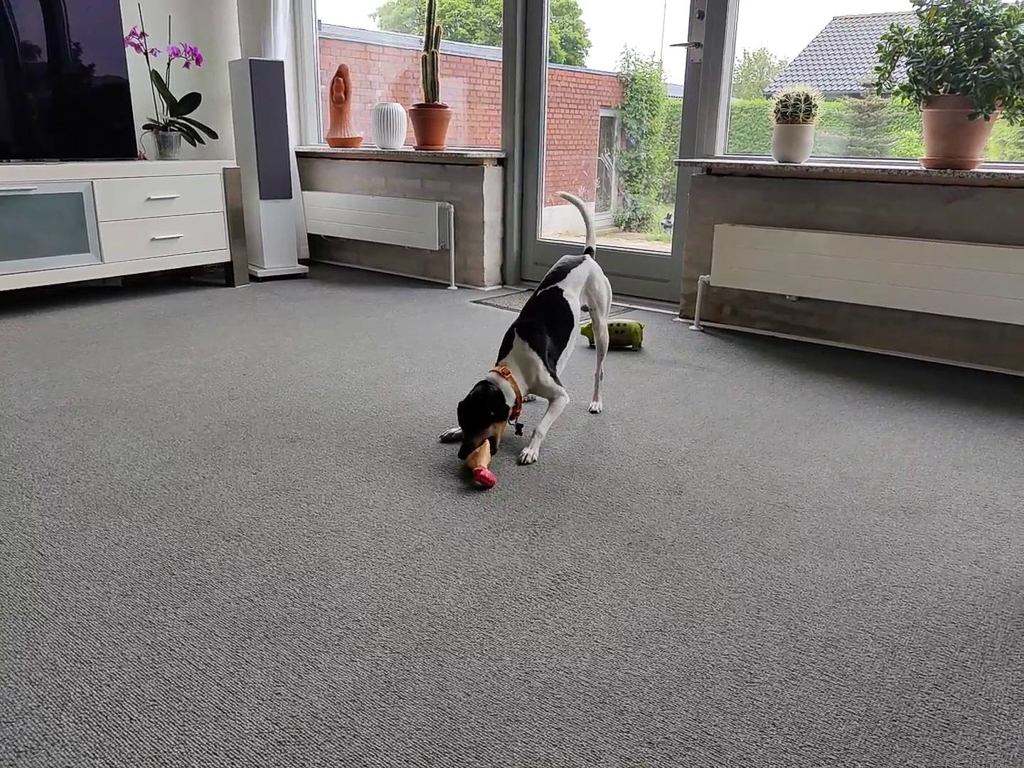Dog: (431, 187, 627, 472)
Humanoid: (321, 59, 365, 139), (658, 208, 678, 238)
